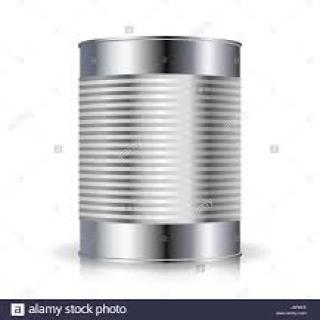Anorganik: (69, 28, 249, 271)
